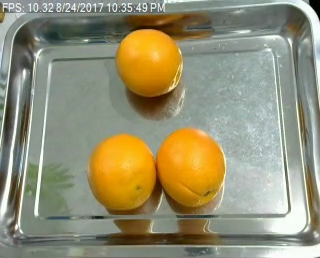Orange: (157, 129, 227, 208), (87, 133, 157, 211), (113, 28, 182, 95)
